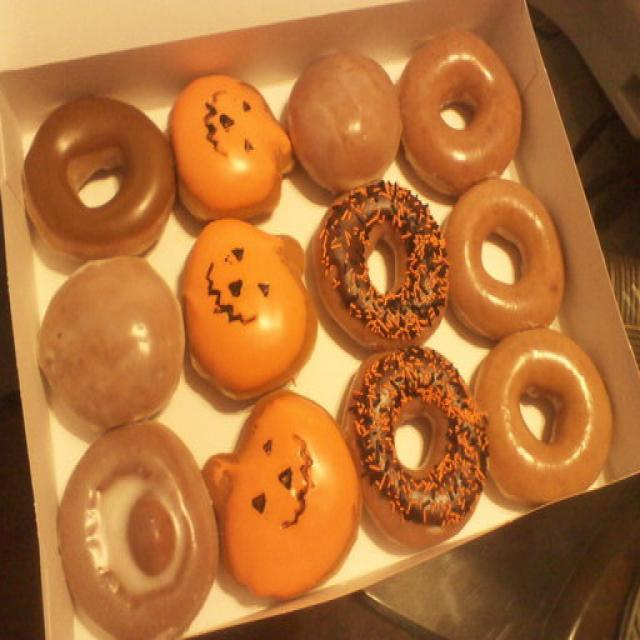Donuts: (18, 38, 610, 624)
